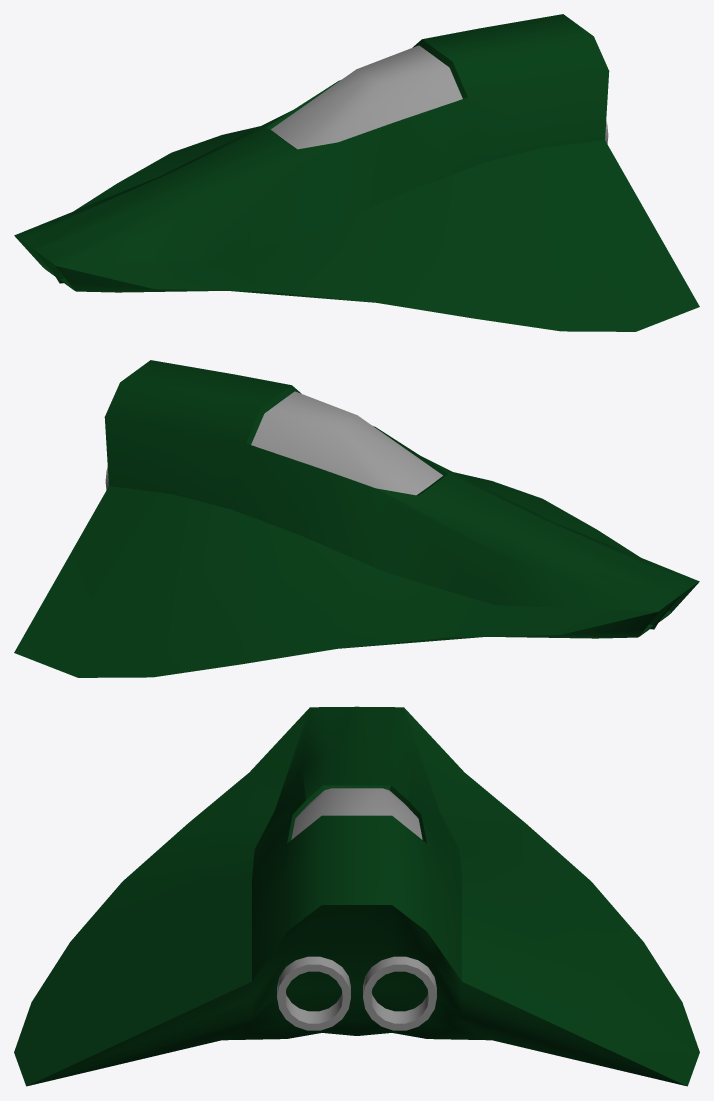
Rendered from Medium Ship Test.FBX.
3 renders of one model, top to bottom at view 1: azimuth 30°, elevation 25°; view 2: azimuth 150°, elevation 25°; view 3: azimuth 270°, elevation 25°, orthographic. The views are drawn at different scales.
Visible parts, largest first — view 1: Box001, Box002; view 2: Box001, Box002; view 3: Box001, Box002, Tube001, Tube002.
Boxes of the visible parts, <box> form: Box001: <box>14,14,699,331</box>; Box002: <box>271,45,462,149</box>; Box001: <box>14,360,699,677</box>; Box002: <box>251,391,442,495</box>; Box001: <box>14,706,699,1086</box>; Box002: <box>291,788,422,839</box>; Tube001: <box>277,956,350,1030</box>; Tube002: <box>363,956,436,1030</box>.
Size of the model in its own units: 84.04 by 27.08 by 80.24.
